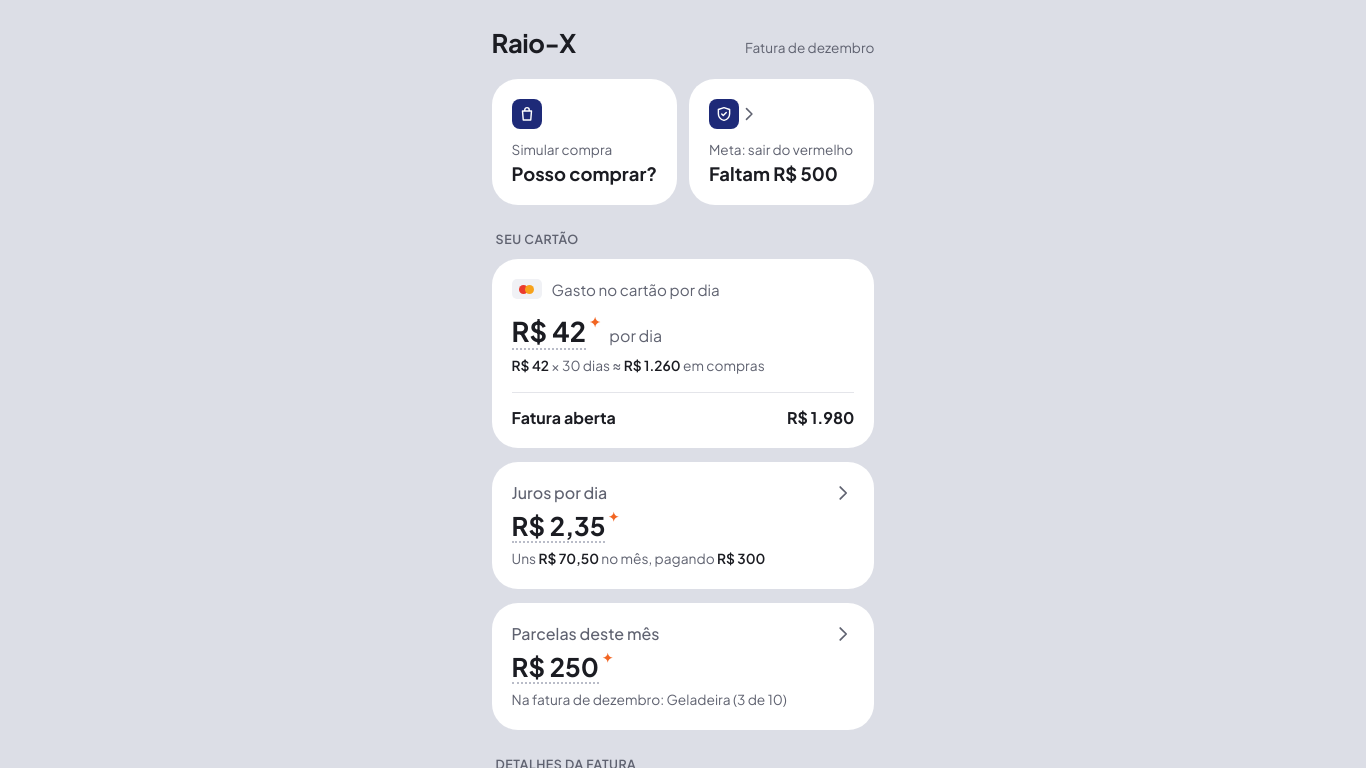
Test: <RaioX> › se salvar falhar, avisa no formulário; Esc fecha
Click the button with aria-label "configurar meta": (782,142) [689,79,874,205]
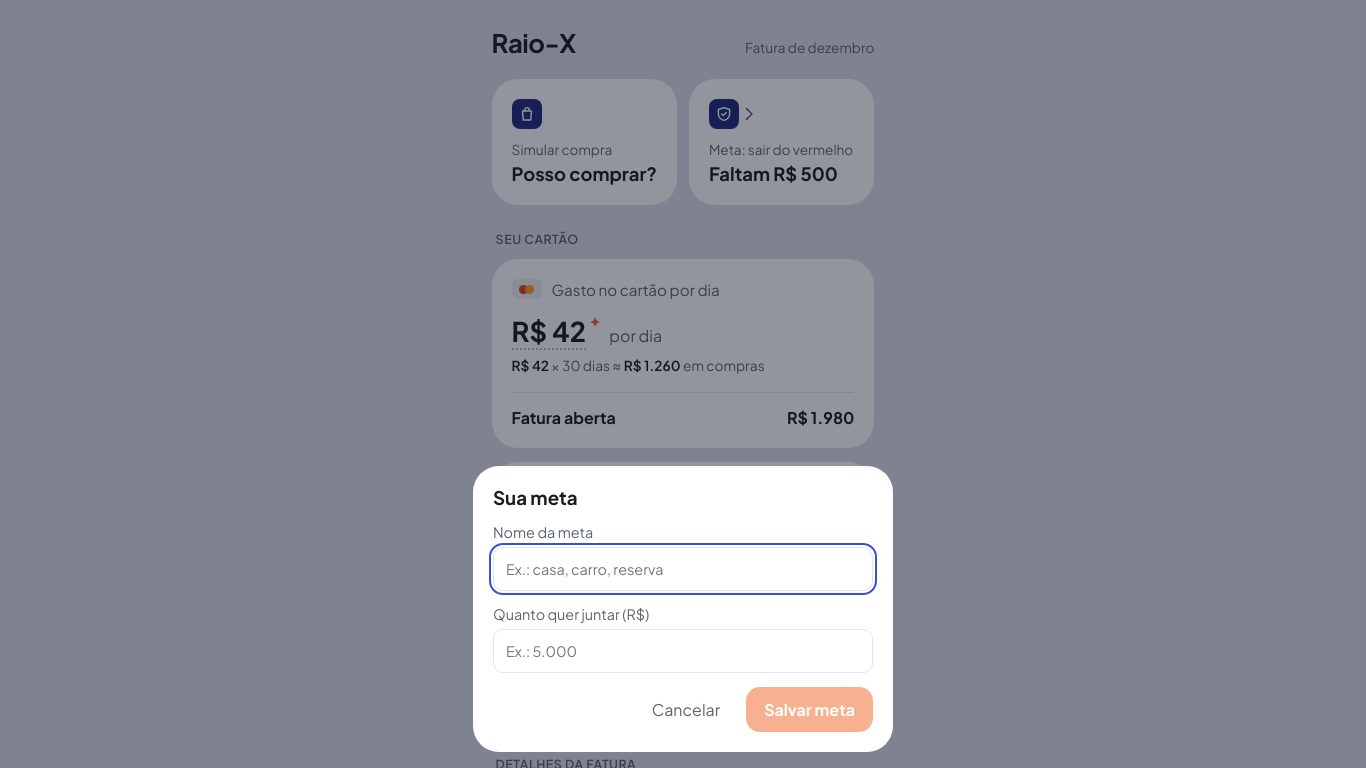
In the field labelled "Nome da meta": (683,569) [493,547,873,591], type "Casa"
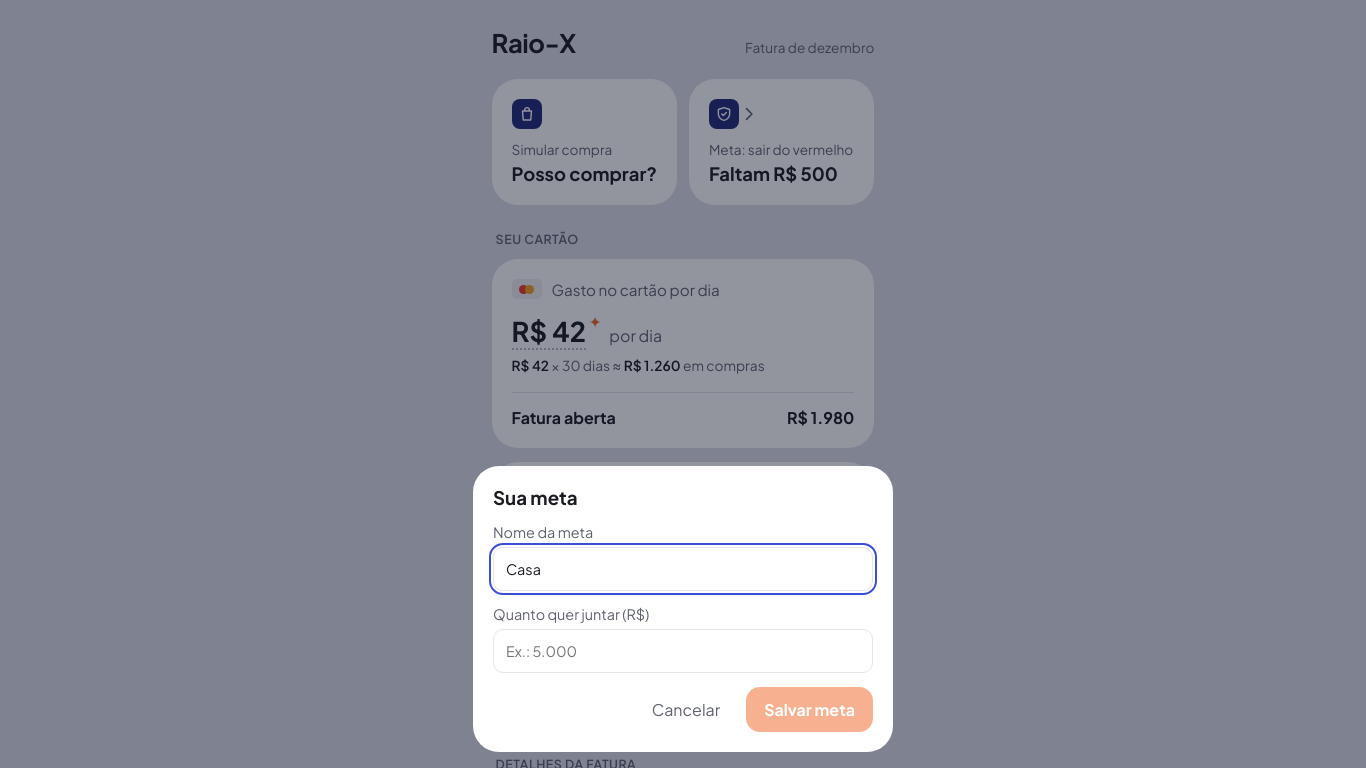
In the field labelled "Quanto quer juntar (R$)": (683,651) [493,629,873,673], type "8000"
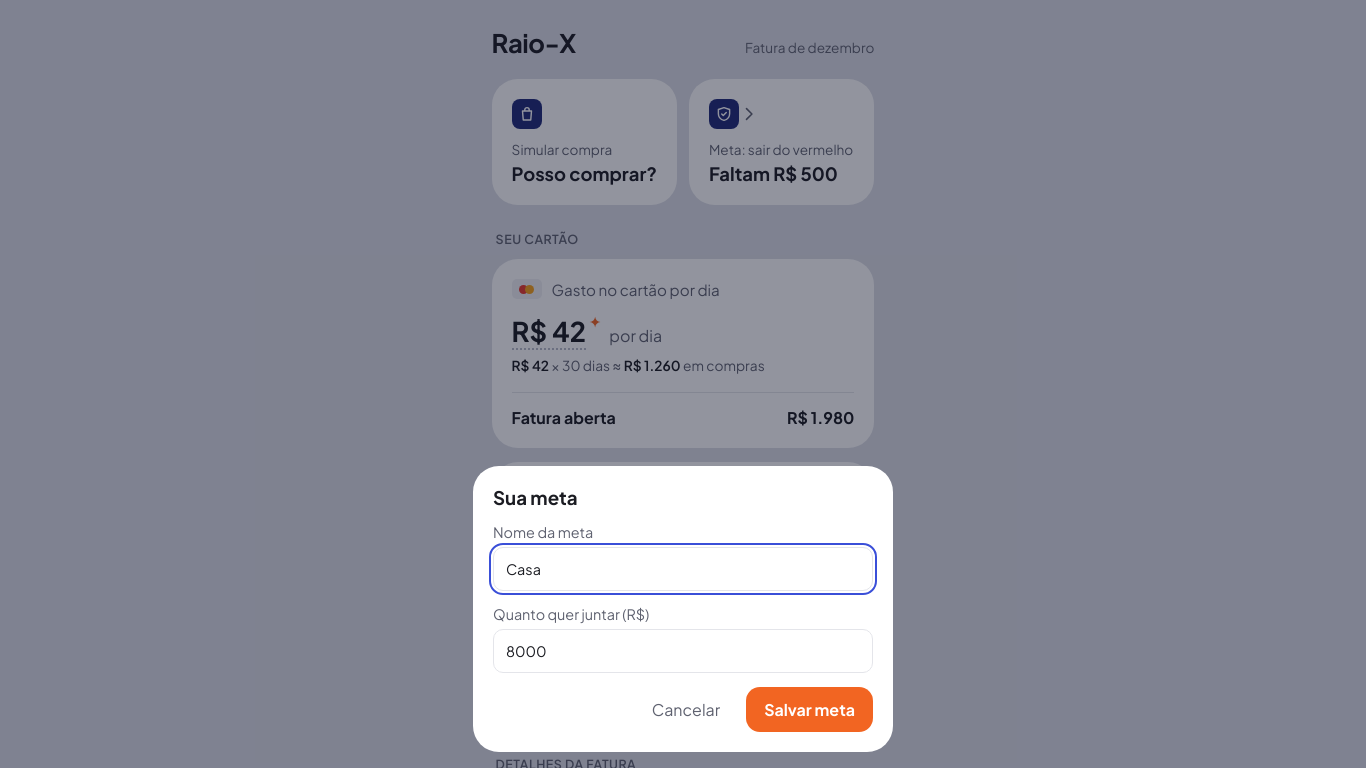
Click the button "Salvar meta": (810,710) [746,687,873,732]
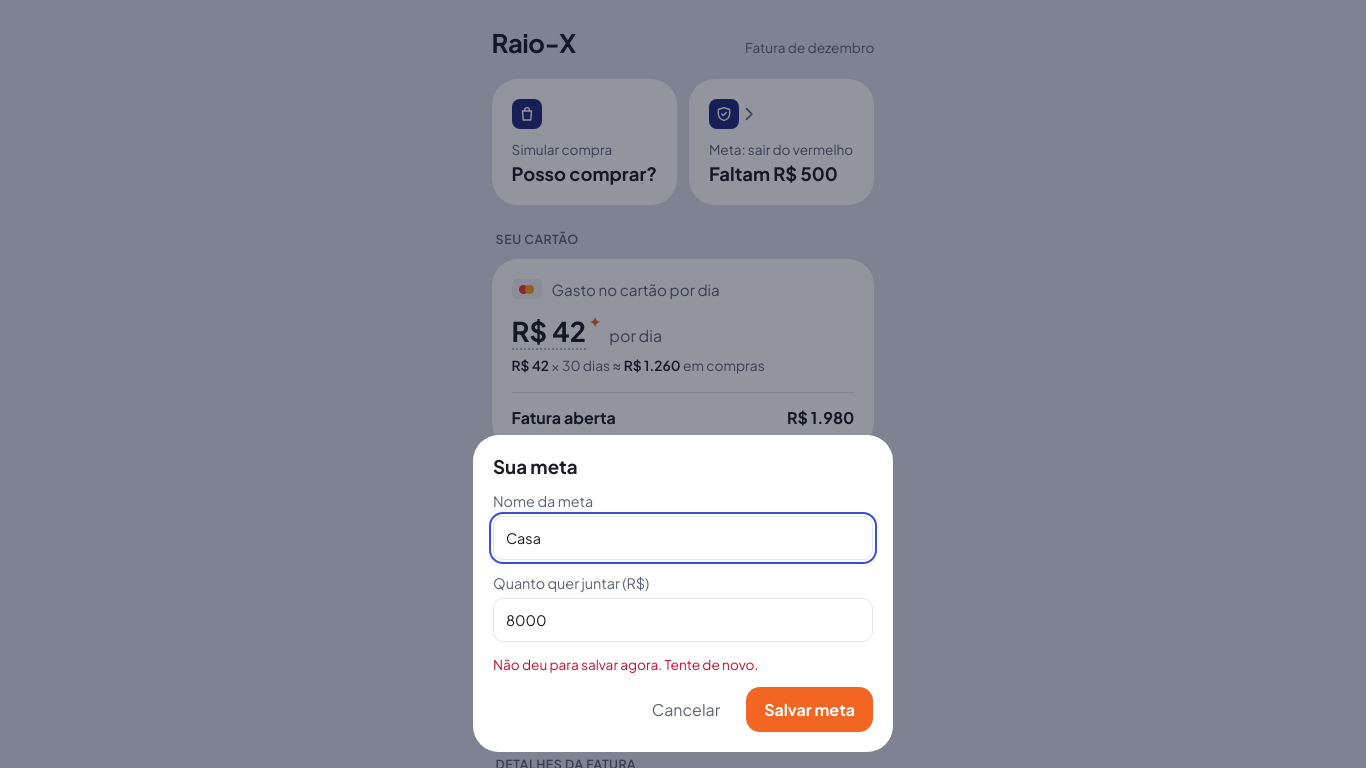
Expected: the message "Não deu para salvar agora. Tente de novo." is shown, [493,656,758,673]
Press Escape in the dialog
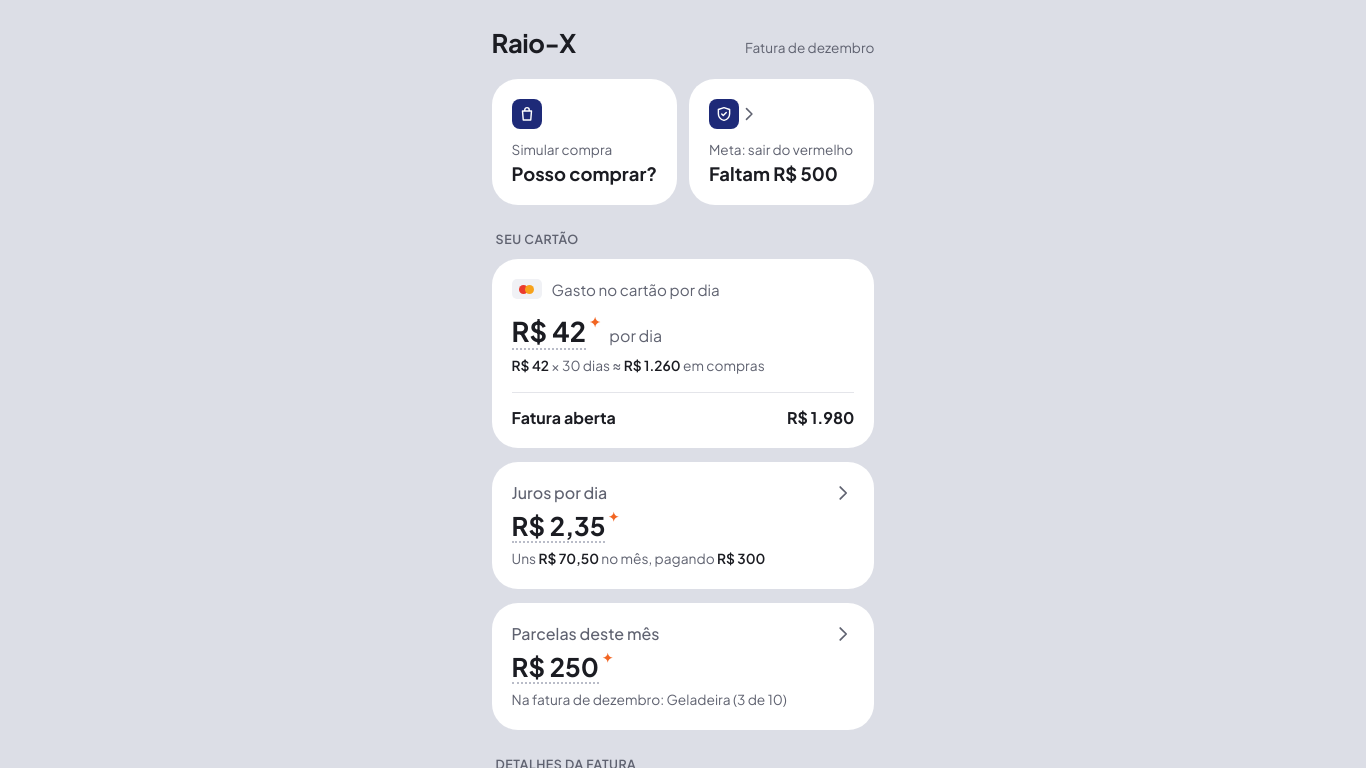
Expected: the dialog is gone
